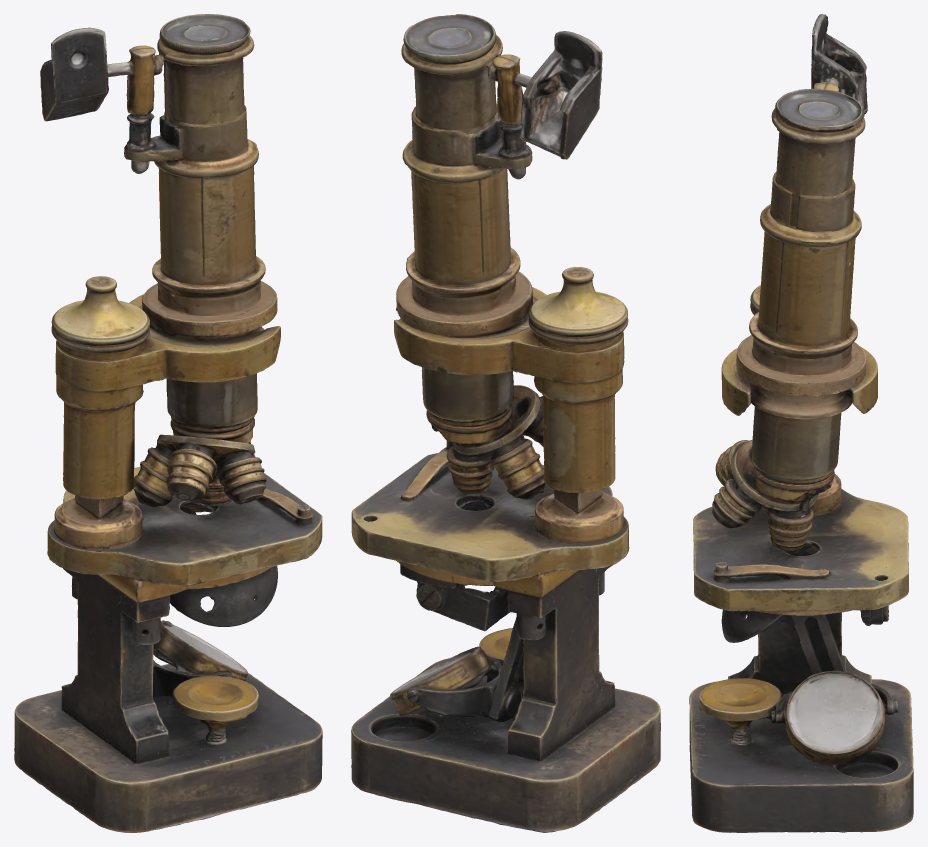
File: compound_microscope-optimized.glb
3 renders of one model, left to right at view 1: azimuth 30°, elevation 25°; view 2: azimuth 150°, elevation 25°; view 3: azimuth 270°, elevation 25°, orthographic. The views are drawn at different scales.
Visible parts, largest first — view 1: Object_3, Object_6, Object_4, Object_2, Object_5; view 2: Object_3, Object_6, Object_4, Object_2, Object_5; view 3: Object_5, Object_4, Object_6, Object_3, Object_2.
Part boxes in pixels (x1,y1,x2,y2): Object_3: [47, 14, 277, 569]; Object_6: [14, 84, 322, 832]; Object_4: [23, 14, 309, 775]; Object_2: [40, 28, 284, 706]; Object_5: [31, 26, 322, 783]; Object_3: [396, 15, 628, 572]; Object_6: [351, 85, 660, 832]; Object_4: [371, 14, 618, 832]; Object_2: [357, 46, 629, 710]; Object_5: [351, 28, 660, 773]; Object_5: [689, 14, 912, 830]; Object_4: [689, 14, 912, 832]; Object_6: [689, 184, 913, 832]; Object_3: [711, 95, 891, 538]; Object_2: [693, 35, 908, 709].
Size of the model in its own units: 0.1723 by 0.5394 by 0.1508.
1 material, 1 textured.
